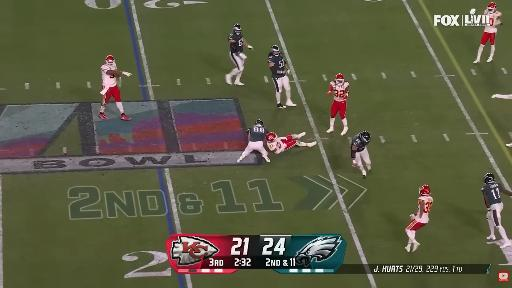Helmet: (360, 130, 371, 144), (419, 185, 430, 195), (484, 173, 495, 183), (266, 132, 277, 142), (488, 2, 497, 13), (335, 74, 344, 85), (106, 55, 114, 67), (271, 45, 280, 55), (233, 24, 241, 34), (255, 120, 263, 126)
Jersey: (415, 196, 433, 223), (481, 182, 502, 205), (267, 136, 295, 153), (268, 54, 286, 78), (329, 82, 349, 101), (485, 10, 501, 33), (101, 65, 116, 87), (351, 133, 367, 152), (228, 33, 243, 53), (250, 126, 268, 141)
Player: (481, 173, 511, 248), (99, 55, 131, 120), (405, 185, 433, 252), (268, 45, 296, 108), (474, 2, 501, 63), (226, 24, 252, 85), (238, 120, 270, 162), (327, 74, 349, 135), (266, 132, 316, 153), (351, 131, 371, 178)
